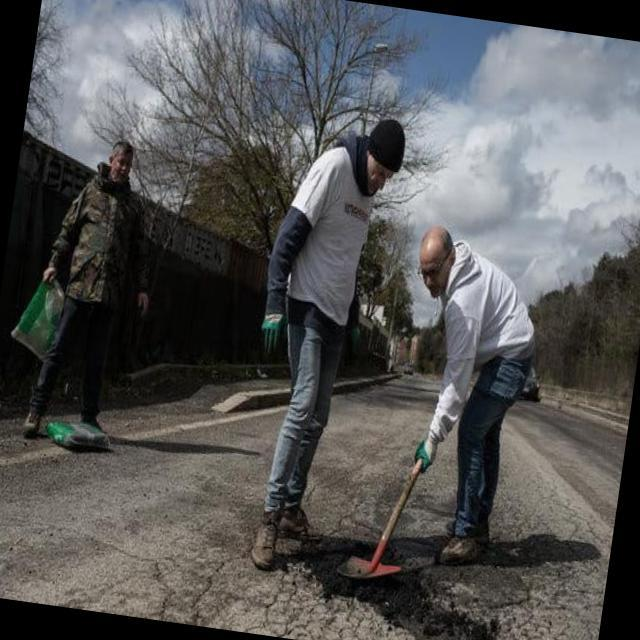Pothole: (329, 572, 498, 640)
